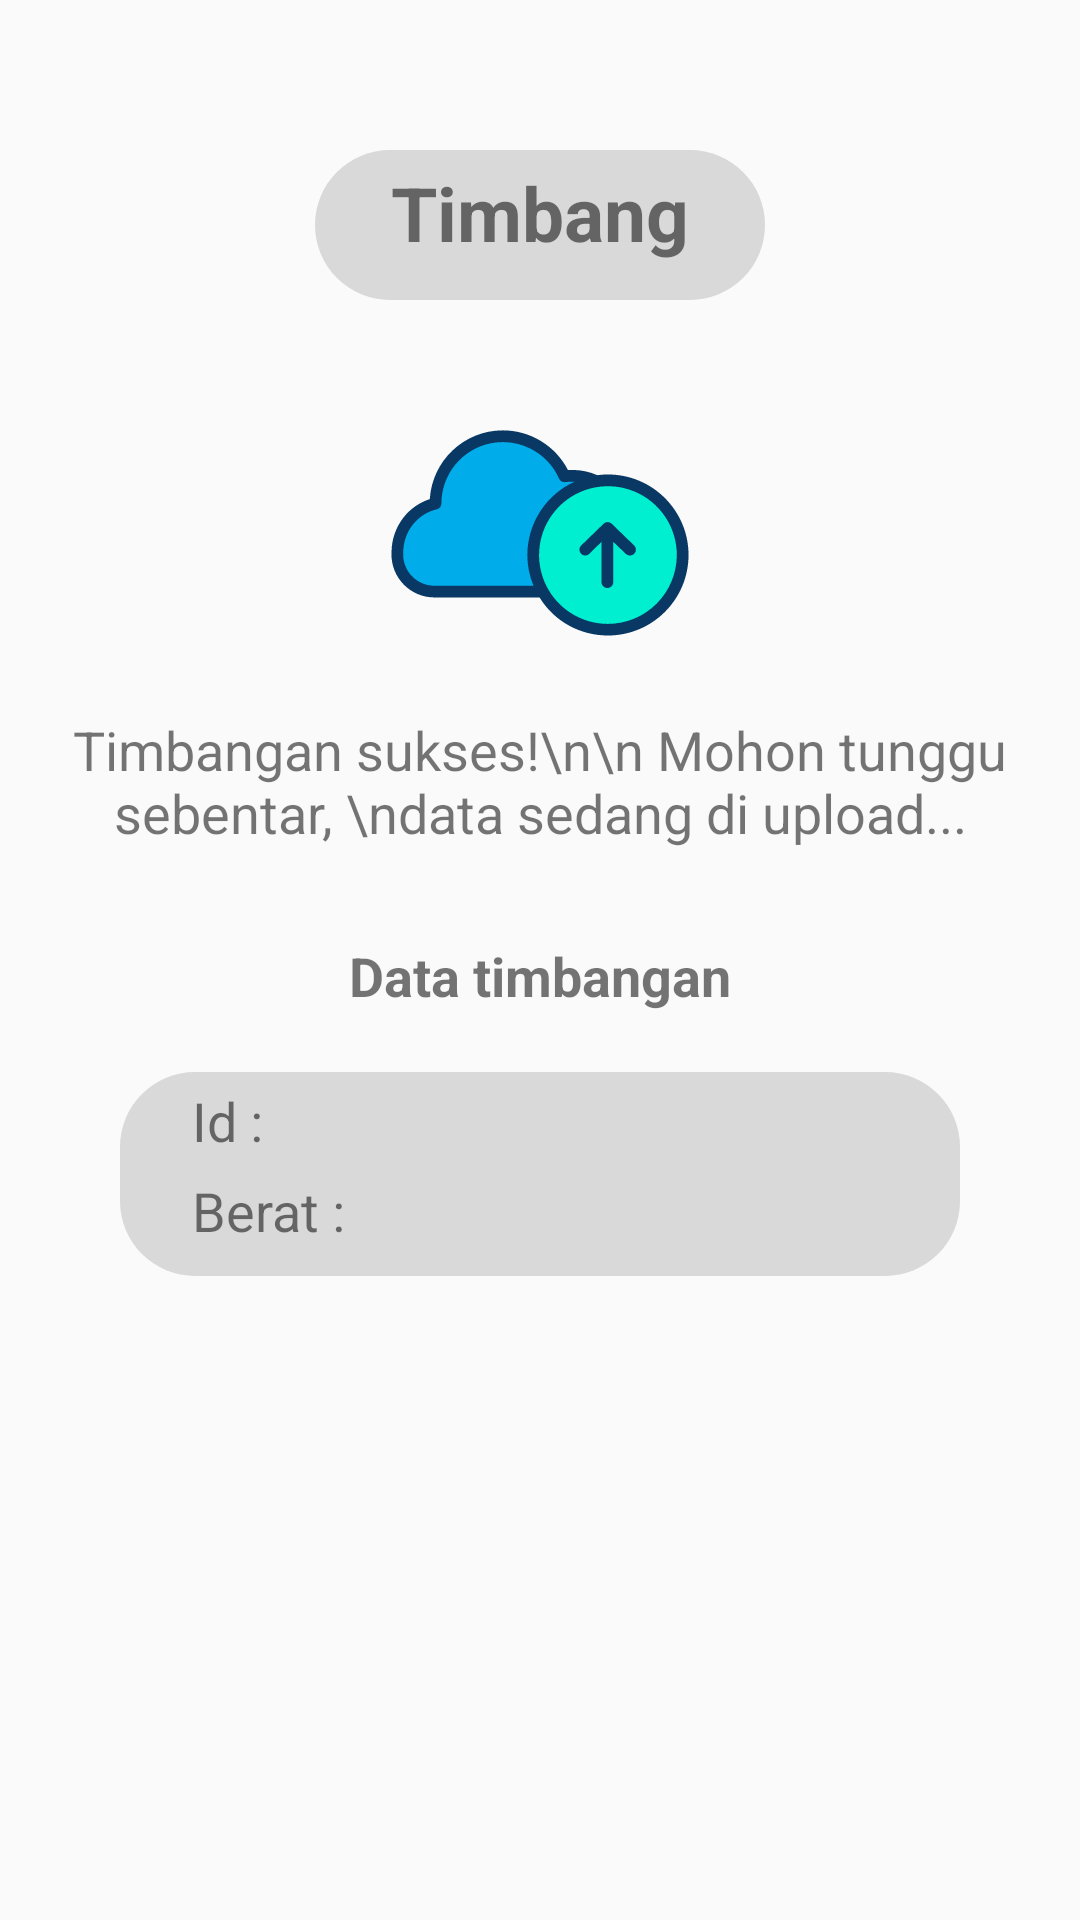

Point at icon controls on the screen. Image size 1080w x 1920h, points as (x=x, y=y).
upload cloud: (x=540, y=533)
